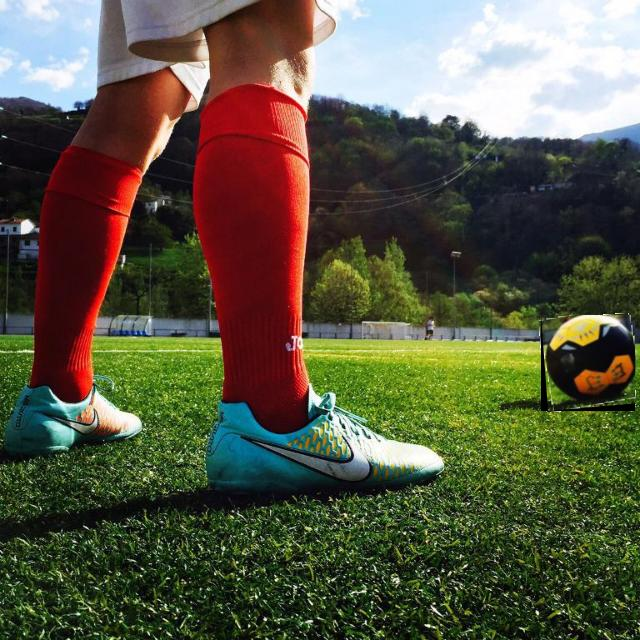Football: (541, 315, 635, 411)
